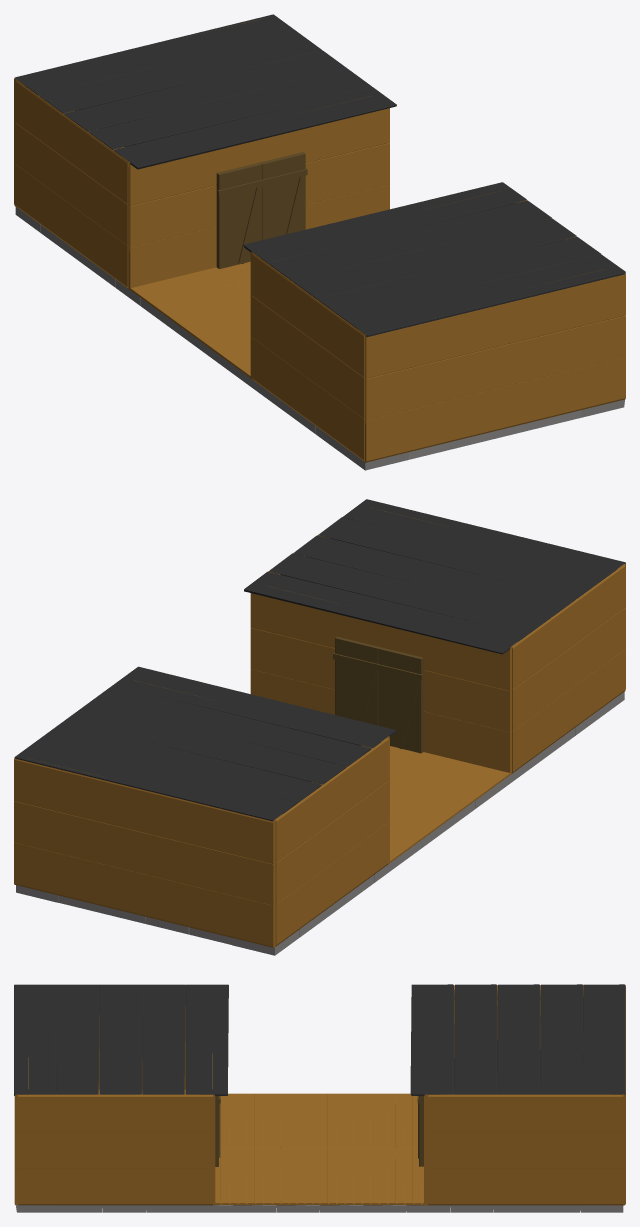
File: SM_WareHouse.fbx
3 renders of one model, top to bottom at view 1: azimuth 30°, elevation 25°; view 2: azimuth 150°, elevation 25°; view 3: azimuth 270°, elevation 25°, orthographic. The views are drawn at different scales.
Parts seen in each view (by area): view 1: SM_WareHouse; view 2: SM_WareHouse; view 3: SM_WareHouse.
Part boxes in pixels (x1=…): SM_WareHouse: x1=14, y1=14, x2=625, y2=470; SM_WareHouse: x1=14, y1=499, x2=625, y2=955; SM_WareHouse: x1=14, y1=984, x2=625, y2=1212.
Size of what is drawn, in the model's own units: 604 by 1413 by 302.
